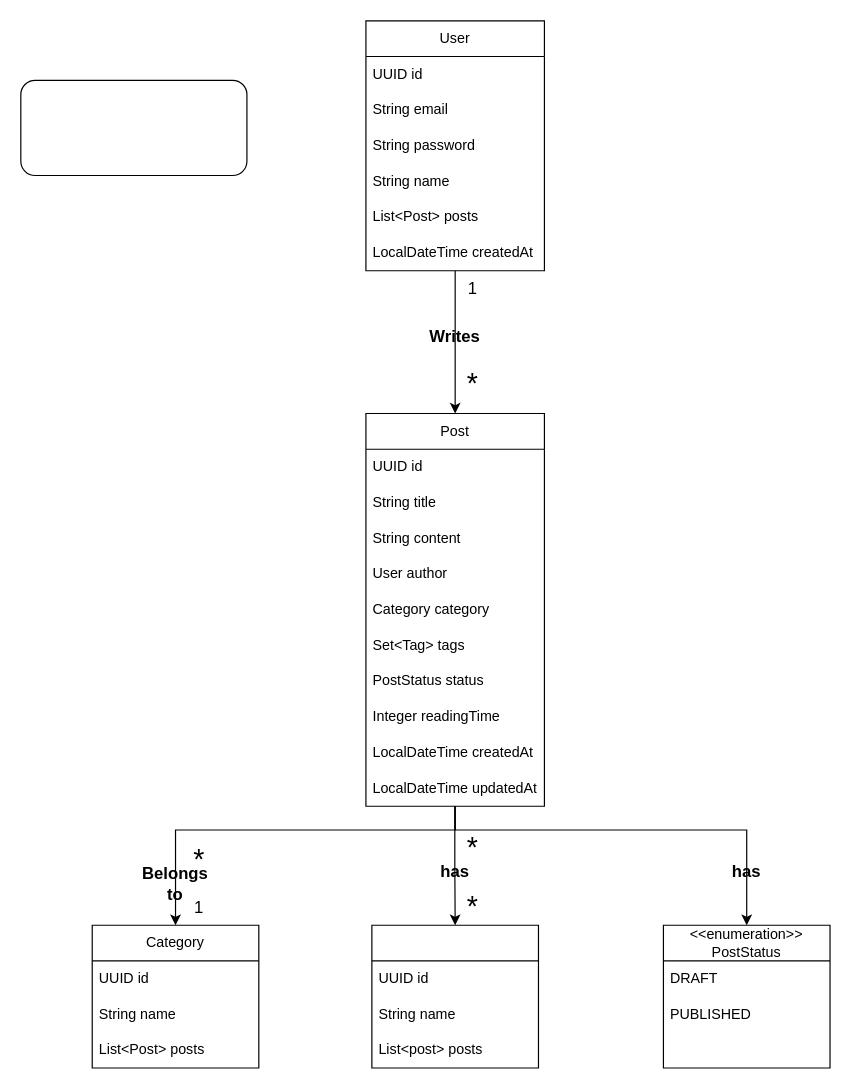
Image size: 851x1089. Some labels were removed from this diagram. The shapes that lost their labels are listed below. From the top down, each one's box as (x1, y1, x2, y2) in pixels, then its label:
(20, 79, 247, 176): Class Diagram Blog Platform
(371, 924, 538, 1068): Tags
